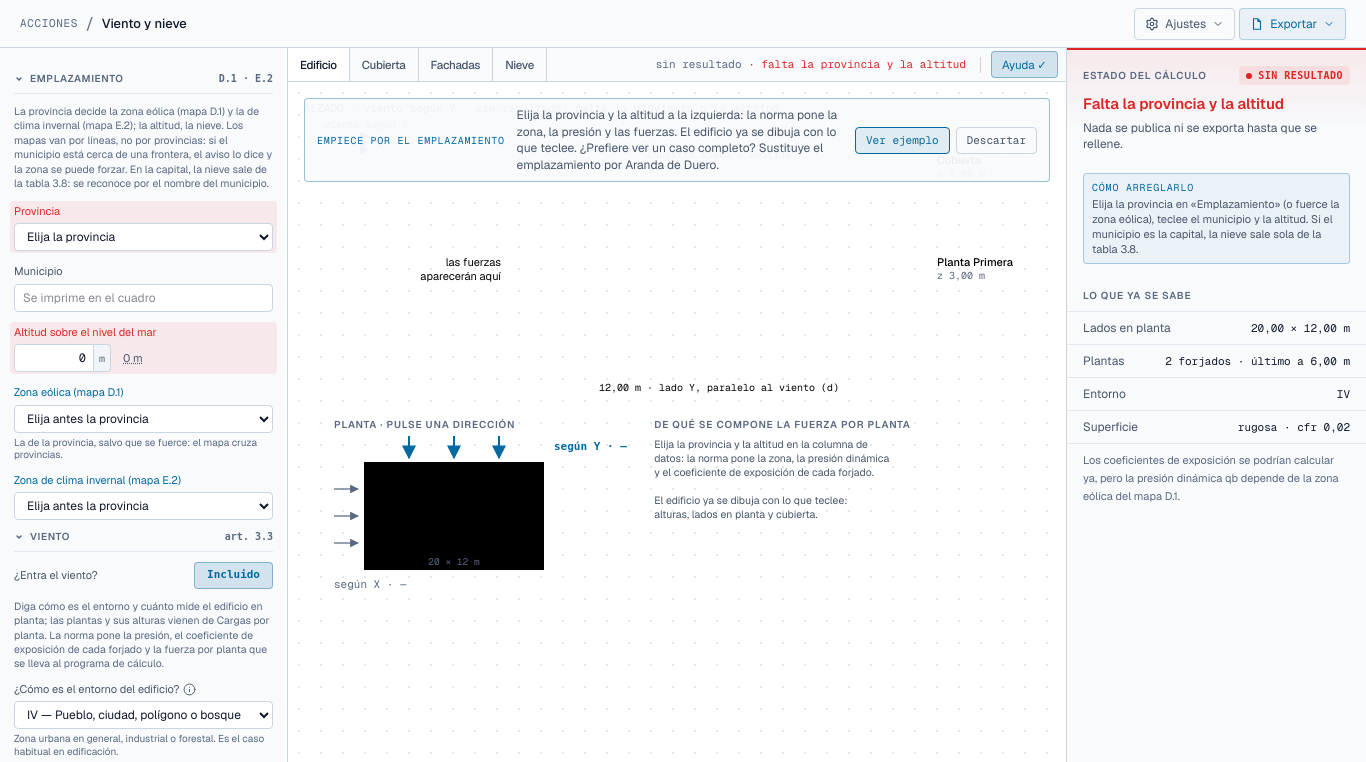
Test: Viento y nieve — módulo › «Ver ejemplo» carga Aranda de Duero con cubierta y quita la banda
Click the button "Ver ejemplo" at (902, 140), box [855,127,950,154]
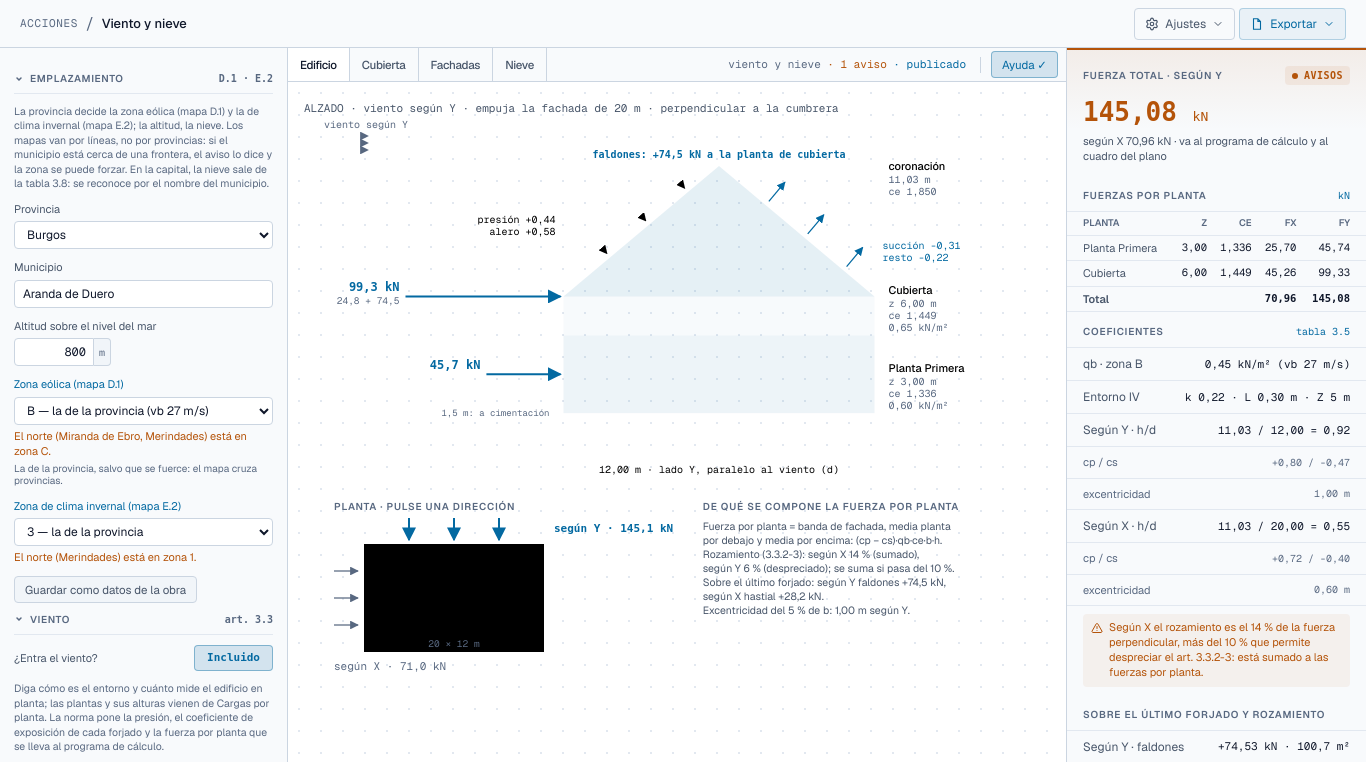
Result: the dropdown named "Provincia" shows "Burgos" at [14,221,273,249]
Result: the message reads "AVISOS" at [1304,70,1343,81]
Result: the text "· publicado" is shown at [887,57,966,71]
